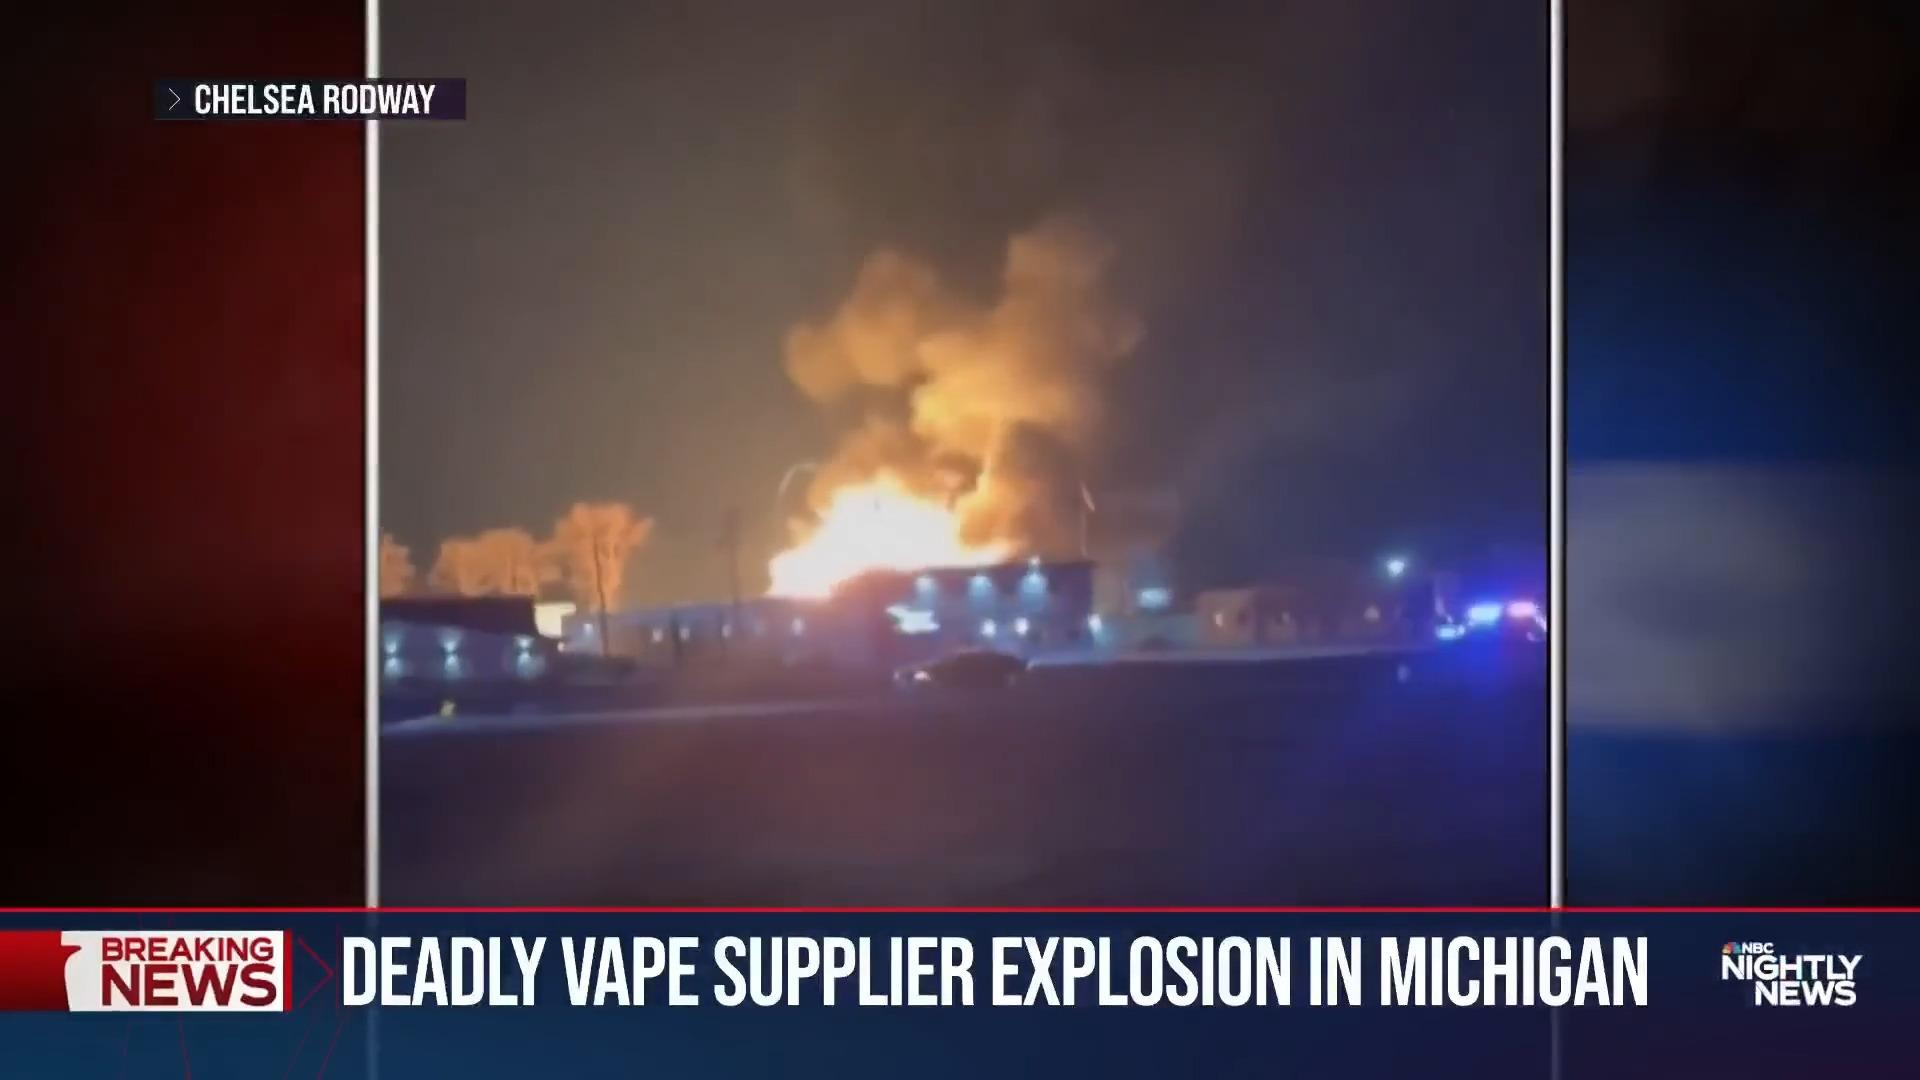fire: (764, 220, 1122, 603)
